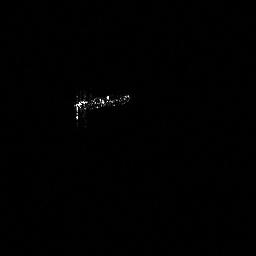ship: (73, 92, 130, 120)
